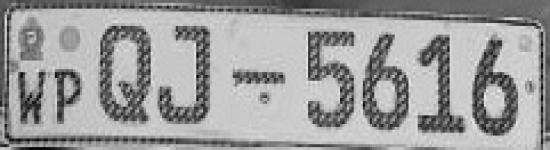-: (232, 62, 287, 88)
1: (417, 30, 468, 140)
5: (298, 24, 360, 133)
6: (471, 28, 529, 145), (361, 24, 414, 137)
J: (158, 18, 222, 128)
P: (53, 64, 86, 127)
Q: (94, 20, 157, 133)
W: (13, 66, 50, 129)
